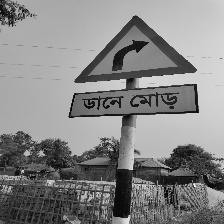Right-turn: (70, 15, 200, 118)
